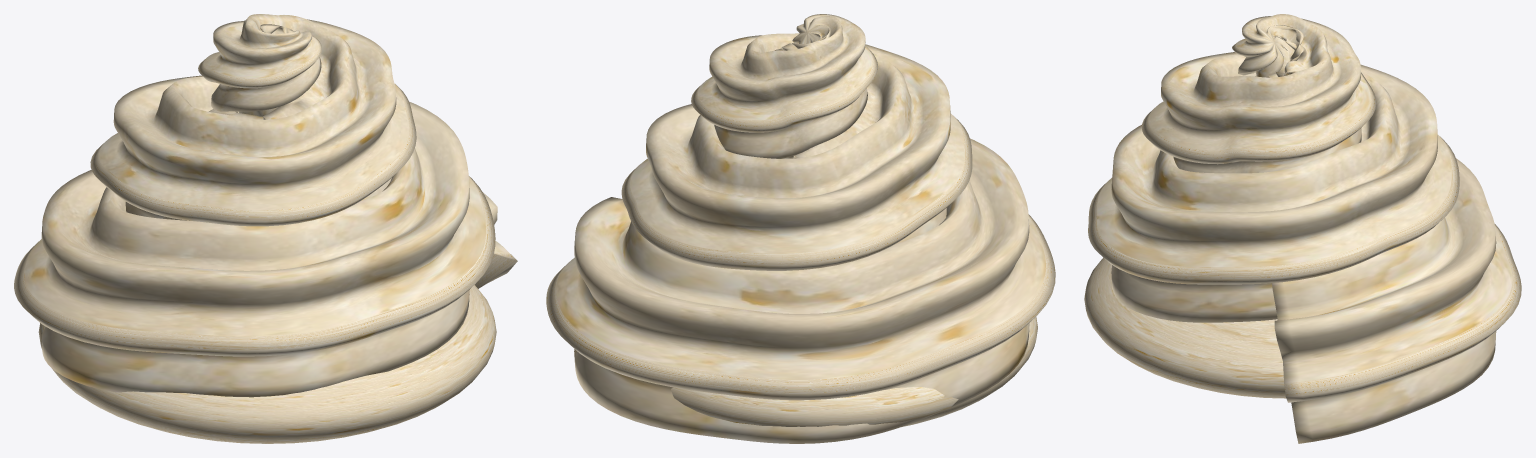
Rendered from sweet-whipped-cream.glb.
The picture shows the model from 3 angles, left to right: view 1: azimuth 30°, elevation 25°; view 2: azimuth 150°, elevation 25°; view 3: azimuth 270°, elevation 25°; orthographic projection. The views are drawn at different scales.
Visible parts, largest first — view 1: Piped cream ridges, Cream base; view 2: Piped cream ridges, Cream base; view 3: Piped cream ridges, Cream base.
Part boxes in pixels (x1,y1,x2,y2): Piped cream ridges: [14, 14, 517, 397]; Cream base: [38, 285, 496, 443]; Piped cream ridges: [546, 14, 1055, 443]; Cream base: [671, 317, 1037, 427]; Piped cream ridges: [1088, 14, 1521, 443]; Cream base: [1084, 257, 1286, 398].
Size of the model in its own units: 0.8862 by 0.6555 by 0.7944.
Materials: 1 (1 with a texture image).
